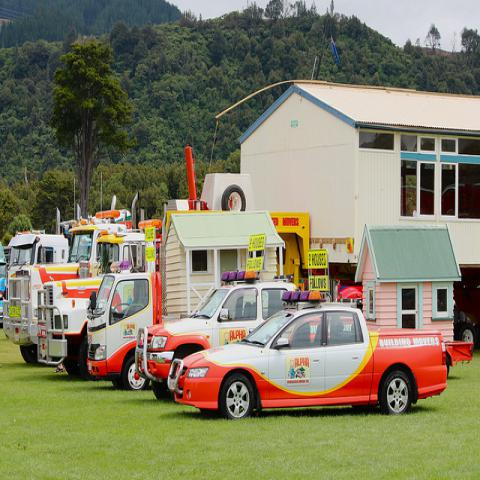car: (340, 285, 362, 299)
truck: (172, 292, 448, 412), (36, 217, 161, 375), (134, 272, 299, 382), (2, 220, 132, 337), (86, 272, 163, 391), (4, 233, 68, 364)
